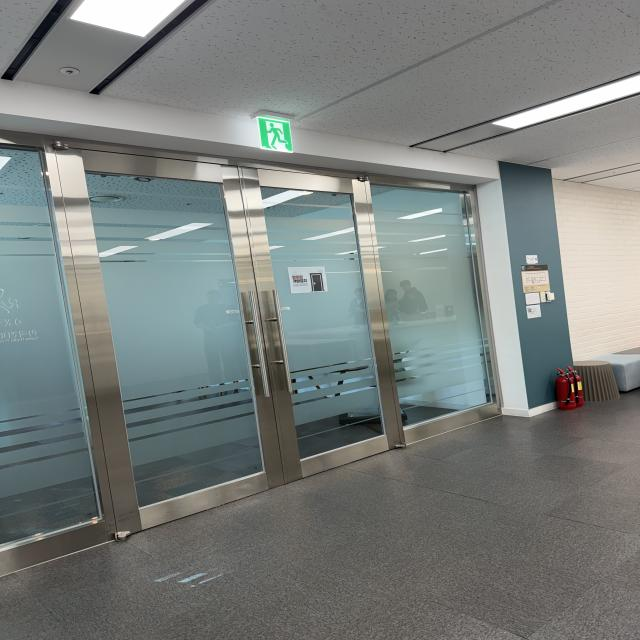front_door: (0, 132, 502, 574)
